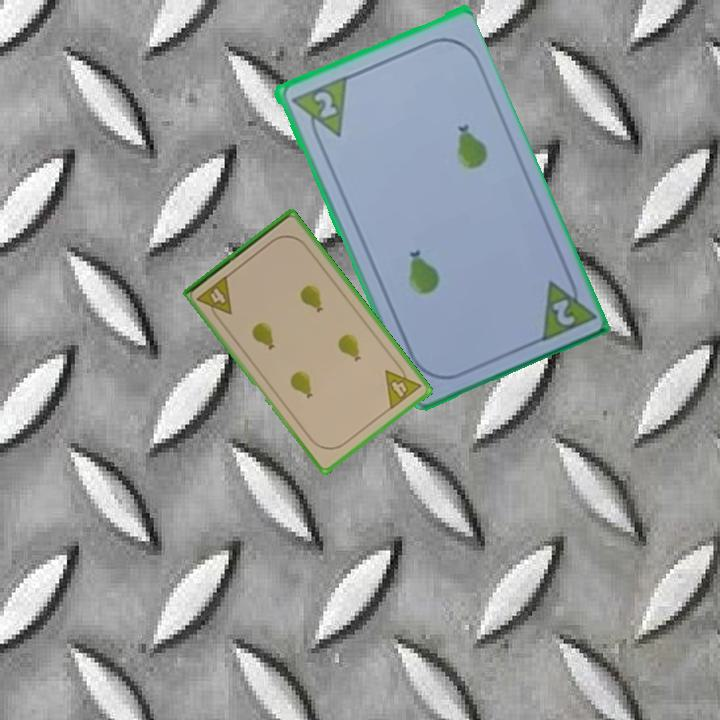2p: (286, 73, 350, 147), (548, 295, 577, 329)
4p: (381, 358, 424, 413), (193, 272, 235, 324)
